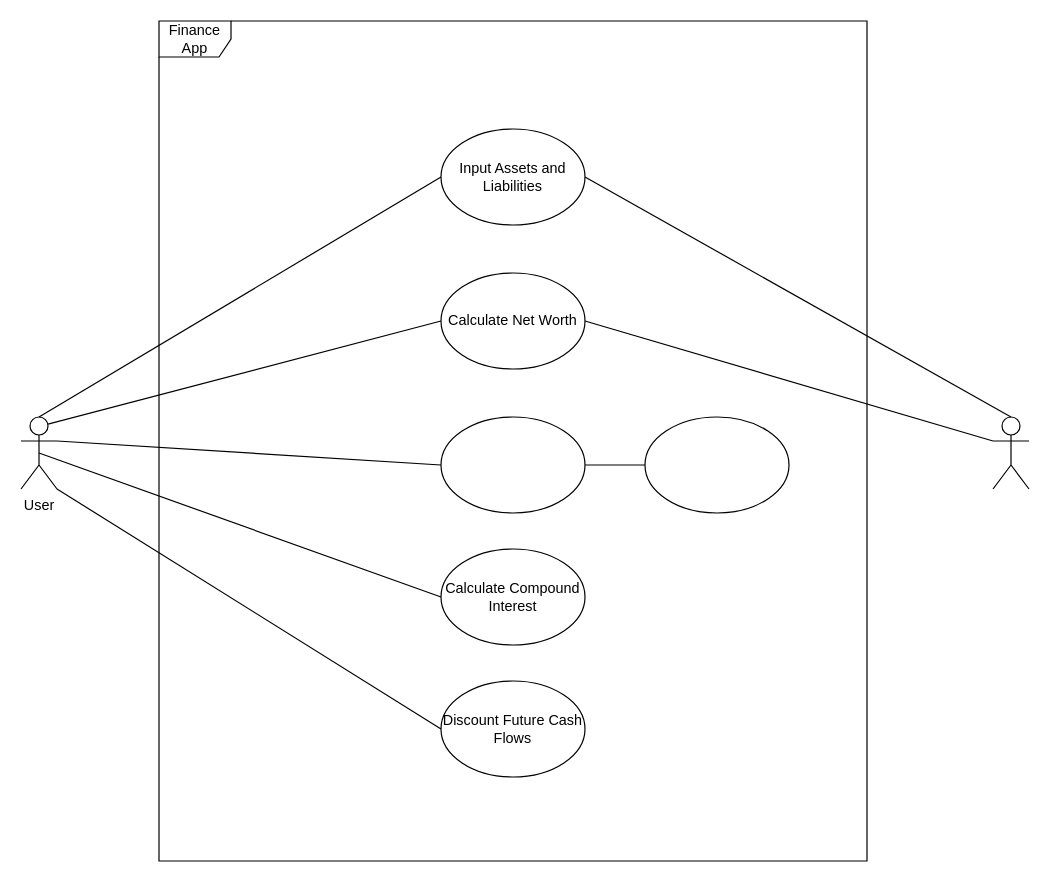
Image size: 1062x882. Some labels were removed from this diagram. The shapes that lost their labels are listed below. From the top down, each one's centre as x and y in pixels, then its label:
At [512,464]: "Create Budget".
At [716,464]: "Analyze spending".
At [1010,452]: "Database".
